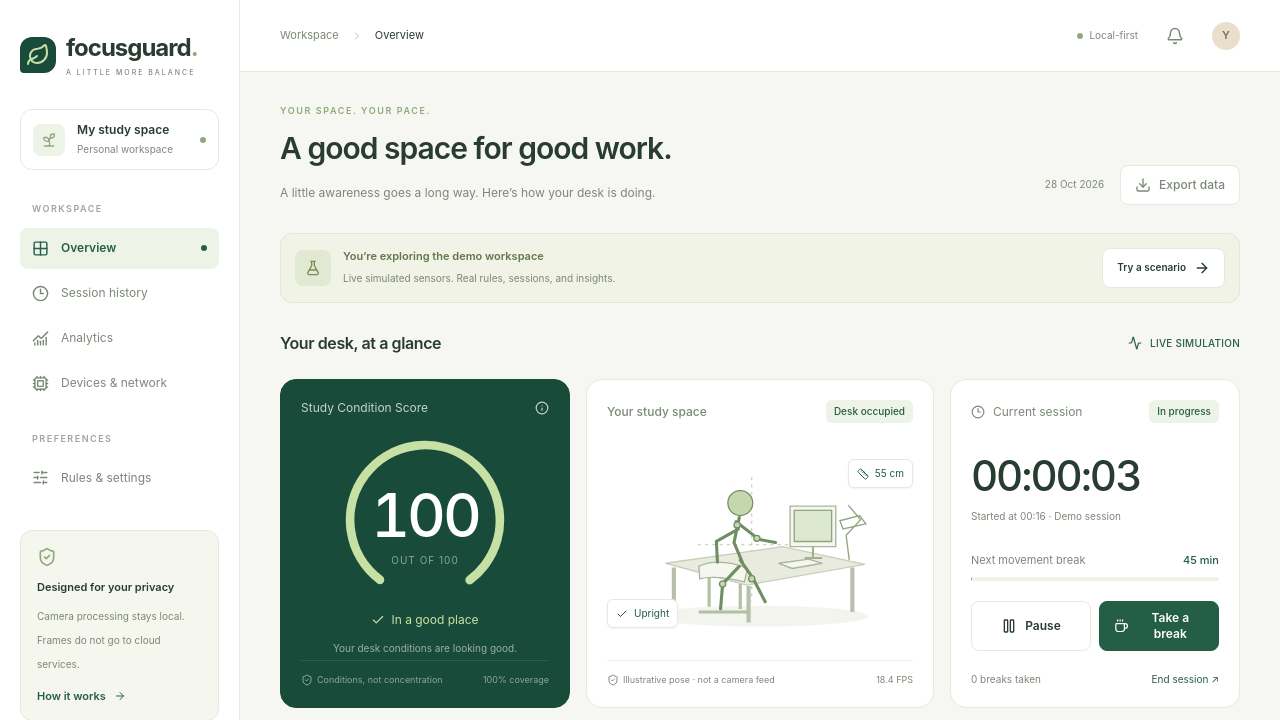
React workspace routes and privacy › opens native privacy and demo dialogs from the shell
Expected: the heading "Your desk, at a glance" is shown, [280,331,441,355]
Click the button "How it works" at (81, 696), box [37,688,126,704]
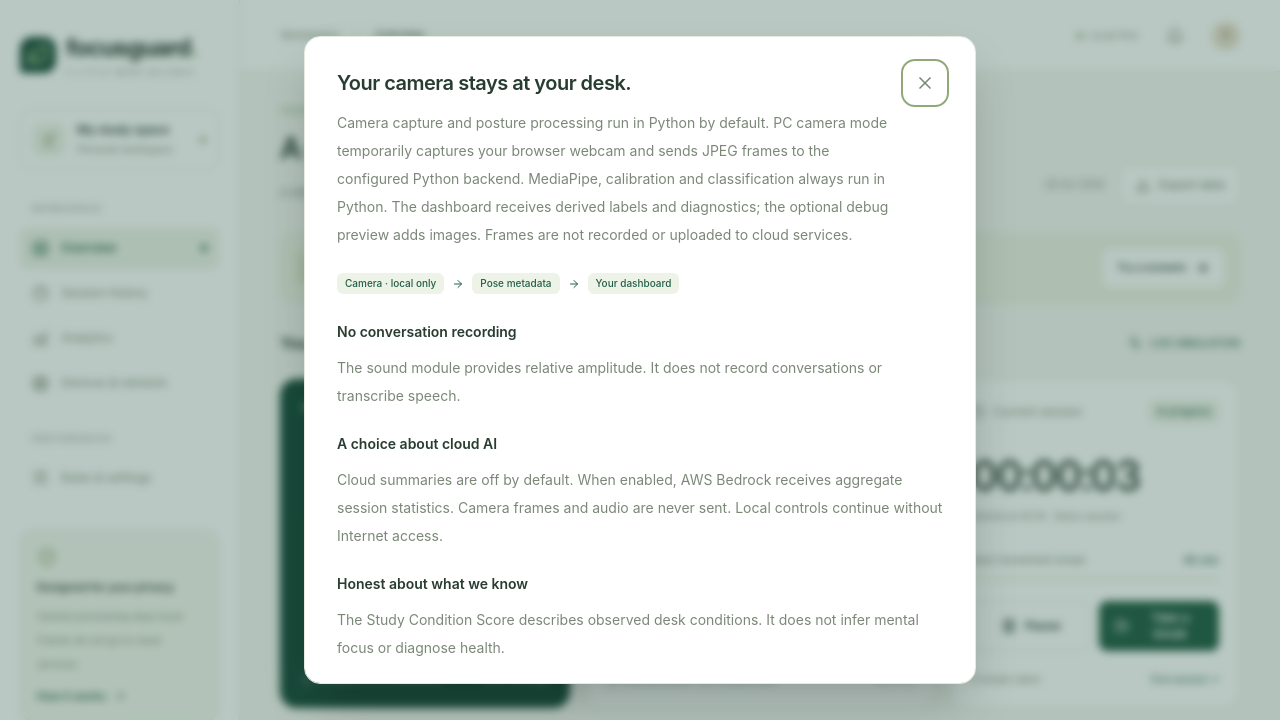
Result: the dialog "Your camera stays at your desk." is shown at [304,36,976,684]
Click the button named "Close Your camera stays at your desk." at (925, 83), box [907,65,943,101]
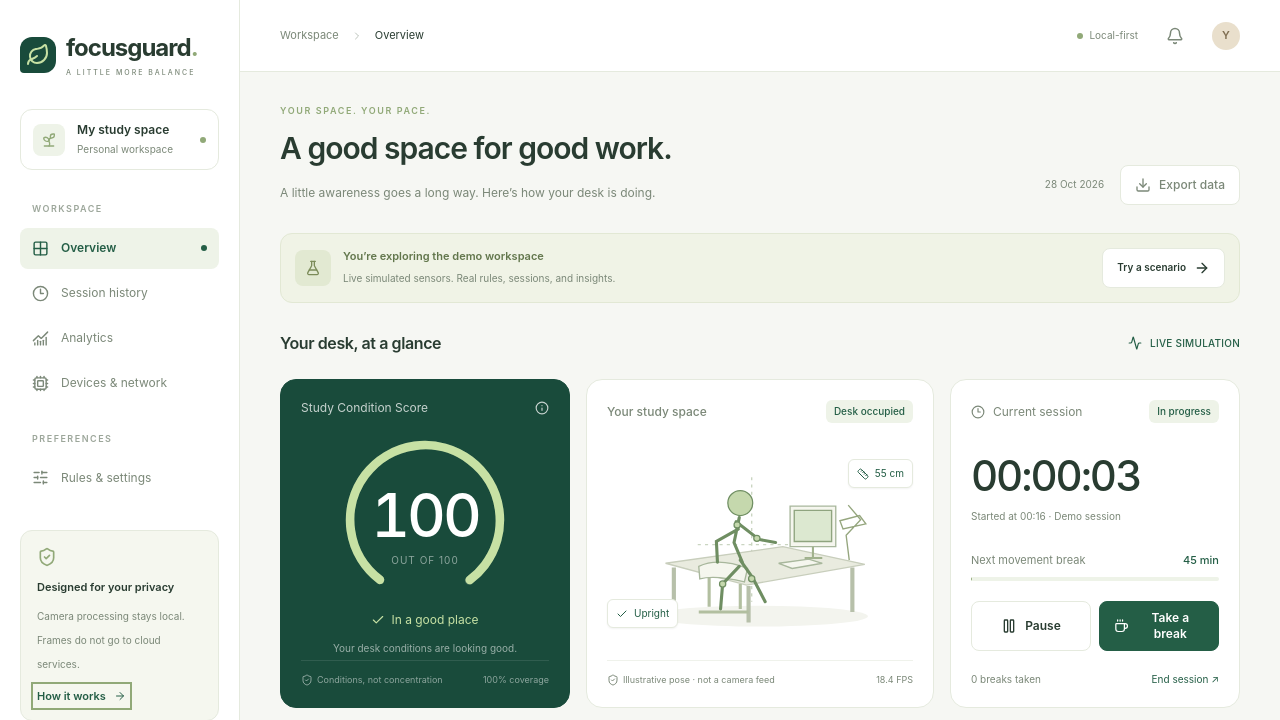
Click the button "Try a scenario" at (1164, 268), box [1102,248,1225,288]
(page scrolled)
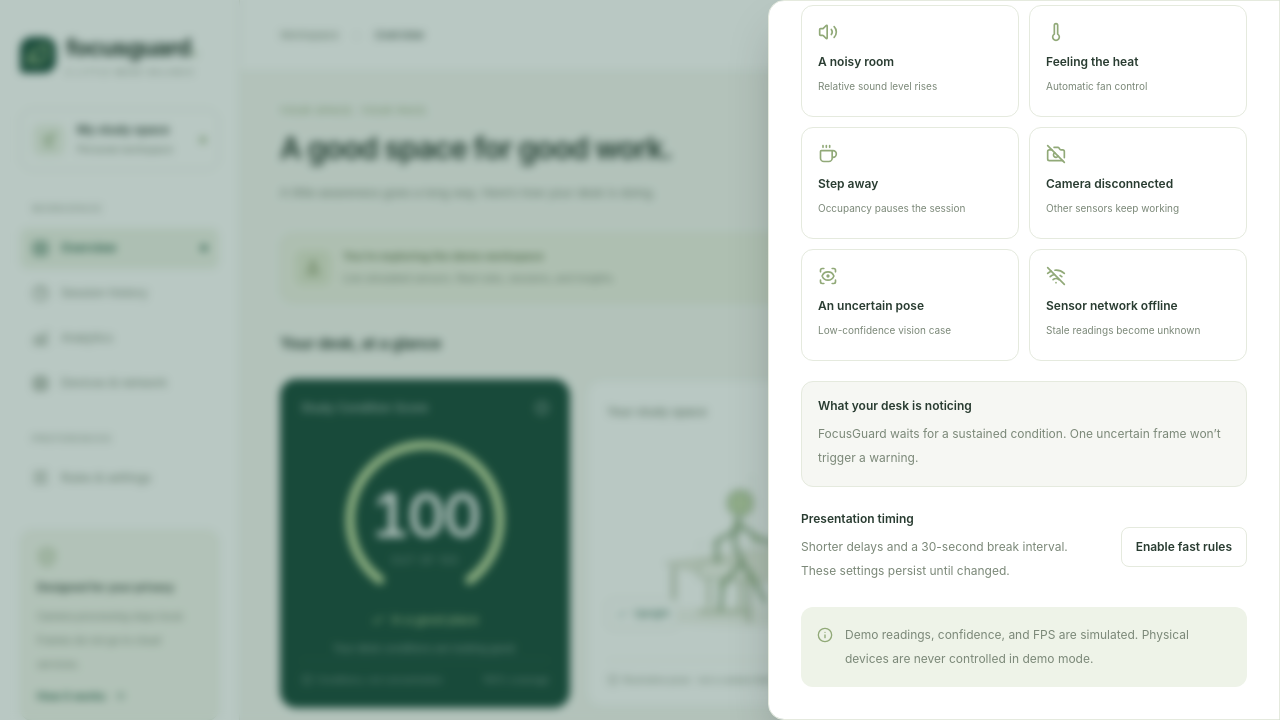
Result: the button "Camera disconnected Other sensors keep working" is shown at [1029,127,1247,239]
Result: the text "Physical devices are never controlled in demo mode" is shown at [845,627,1189,666]
